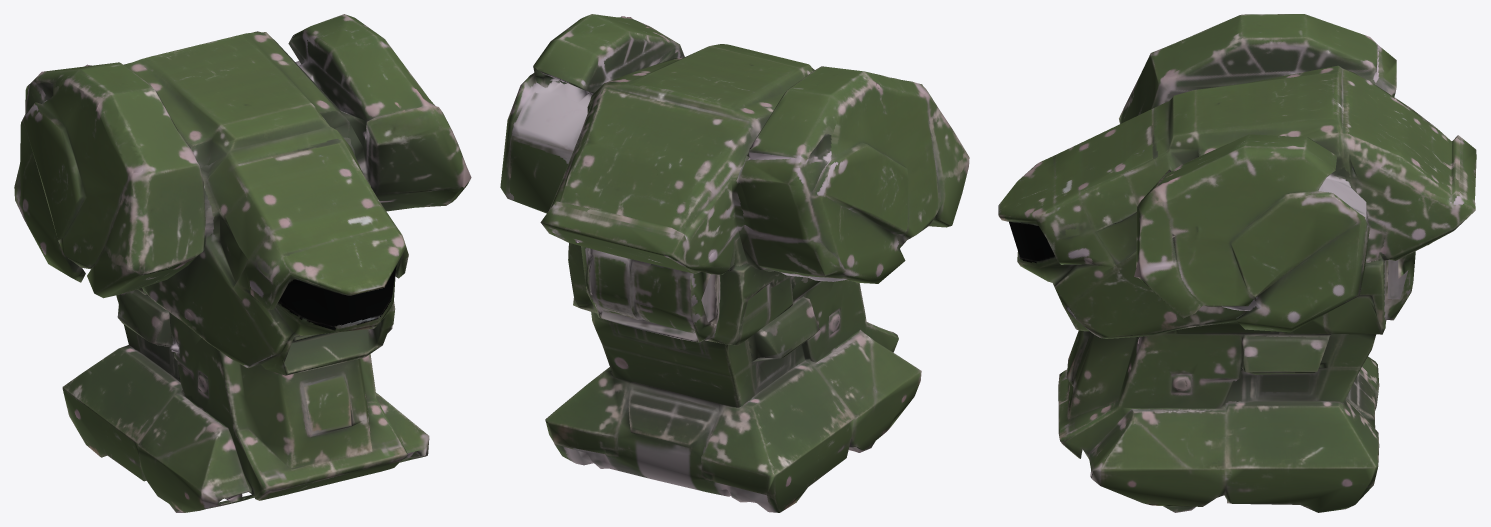
Rendered from hull-b-1.glb.
The picture shows the model from 3 angles, left to right: view 1: azimuth 30°, elevation 25°; view 2: azimuth 150°, elevation 25°; view 3: azimuth 270°, elevation 25°; orthographic projection. The views are drawn at different scales.
Visible parts, largest first — view 1: Part_Torso; view 2: Part_Torso; view 3: Part_Torso.
Part boxes in pixels (x1=…): Part_Torso: x1=14, y1=14, x2=471, y2=512; Part_Torso: x1=500, y1=14, x2=969, y2=512; Part_Torso: x1=998, y1=14, x2=1476, y2=512.
Size of the model in its own units: 2.26 by 2.38 by 2.63.
Materials: 1 (1 with a texture image).
